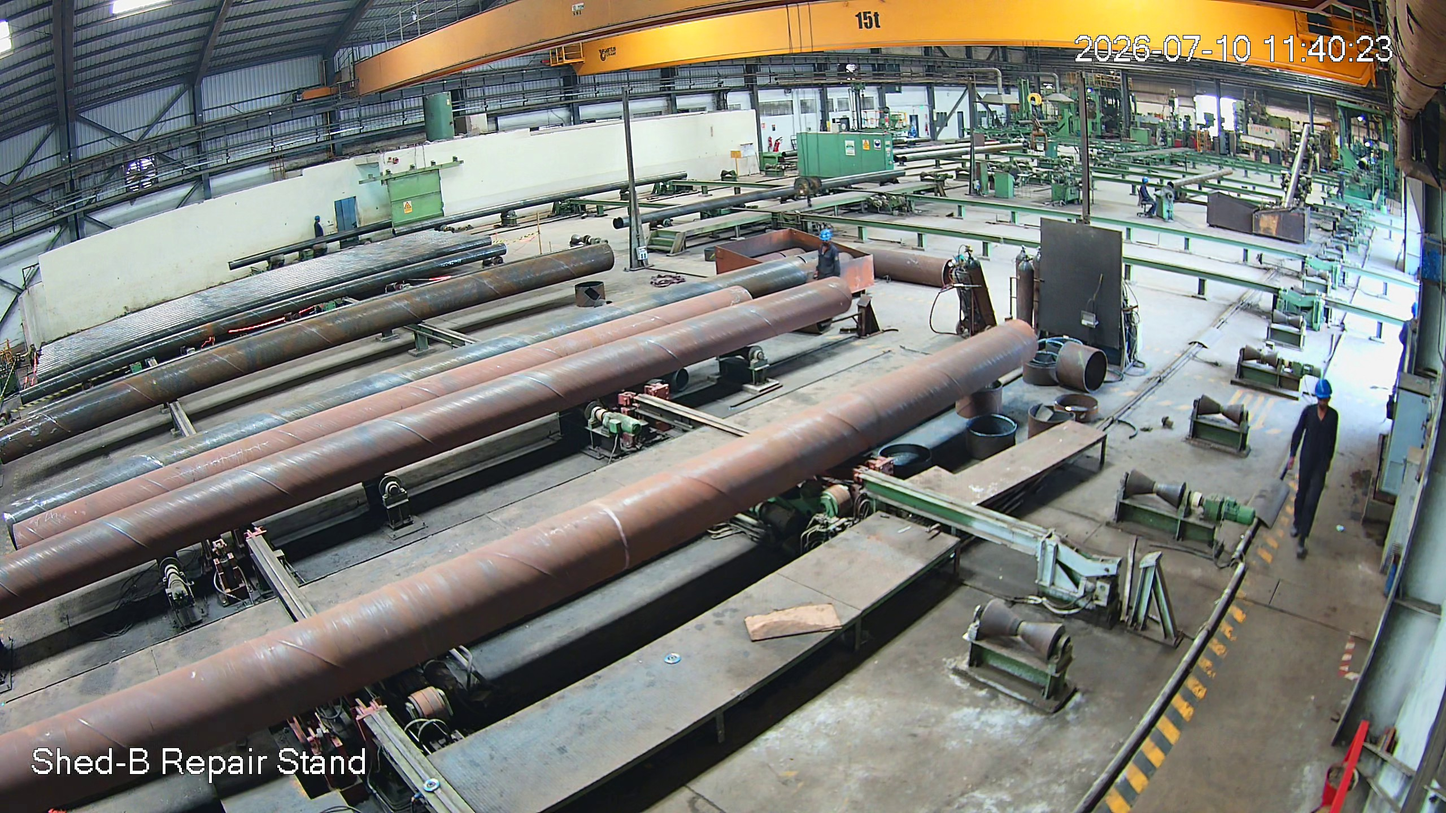Helmet: (1303, 367, 1338, 426), (809, 222, 844, 253), (1138, 173, 1155, 194)
Person: (1287, 373, 1348, 565), (807, 230, 850, 284), (1134, 176, 1161, 221)
